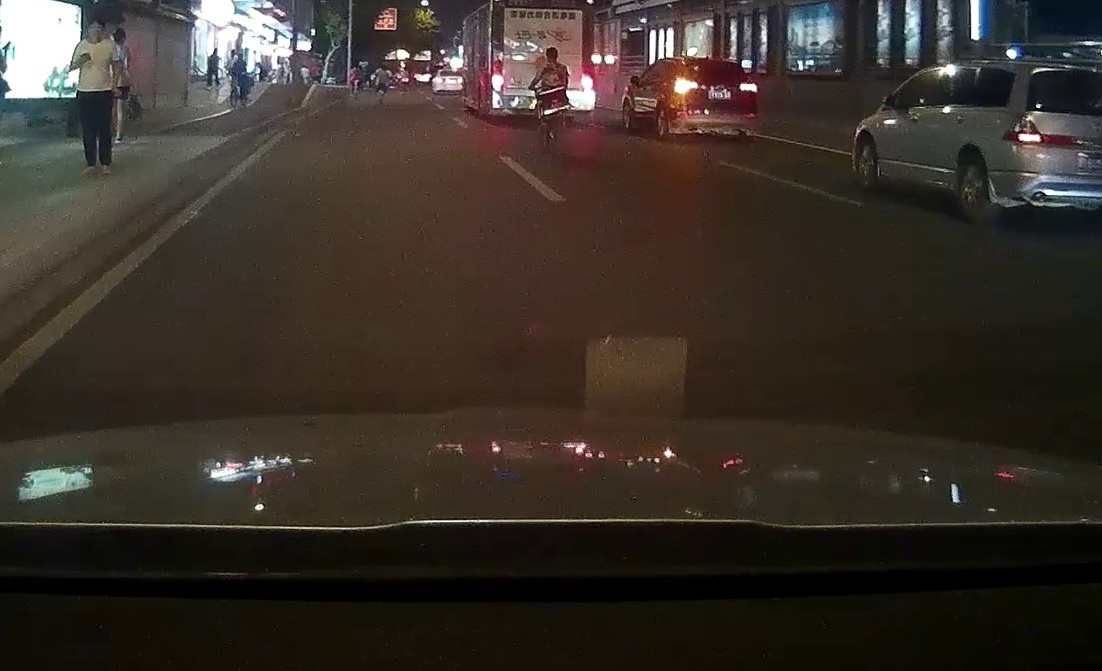L_light: (674, 76, 698, 93)
R_light: (739, 82, 757, 92)
T_light: (710, 61, 723, 65)
night-left: (671, 56, 759, 137)
